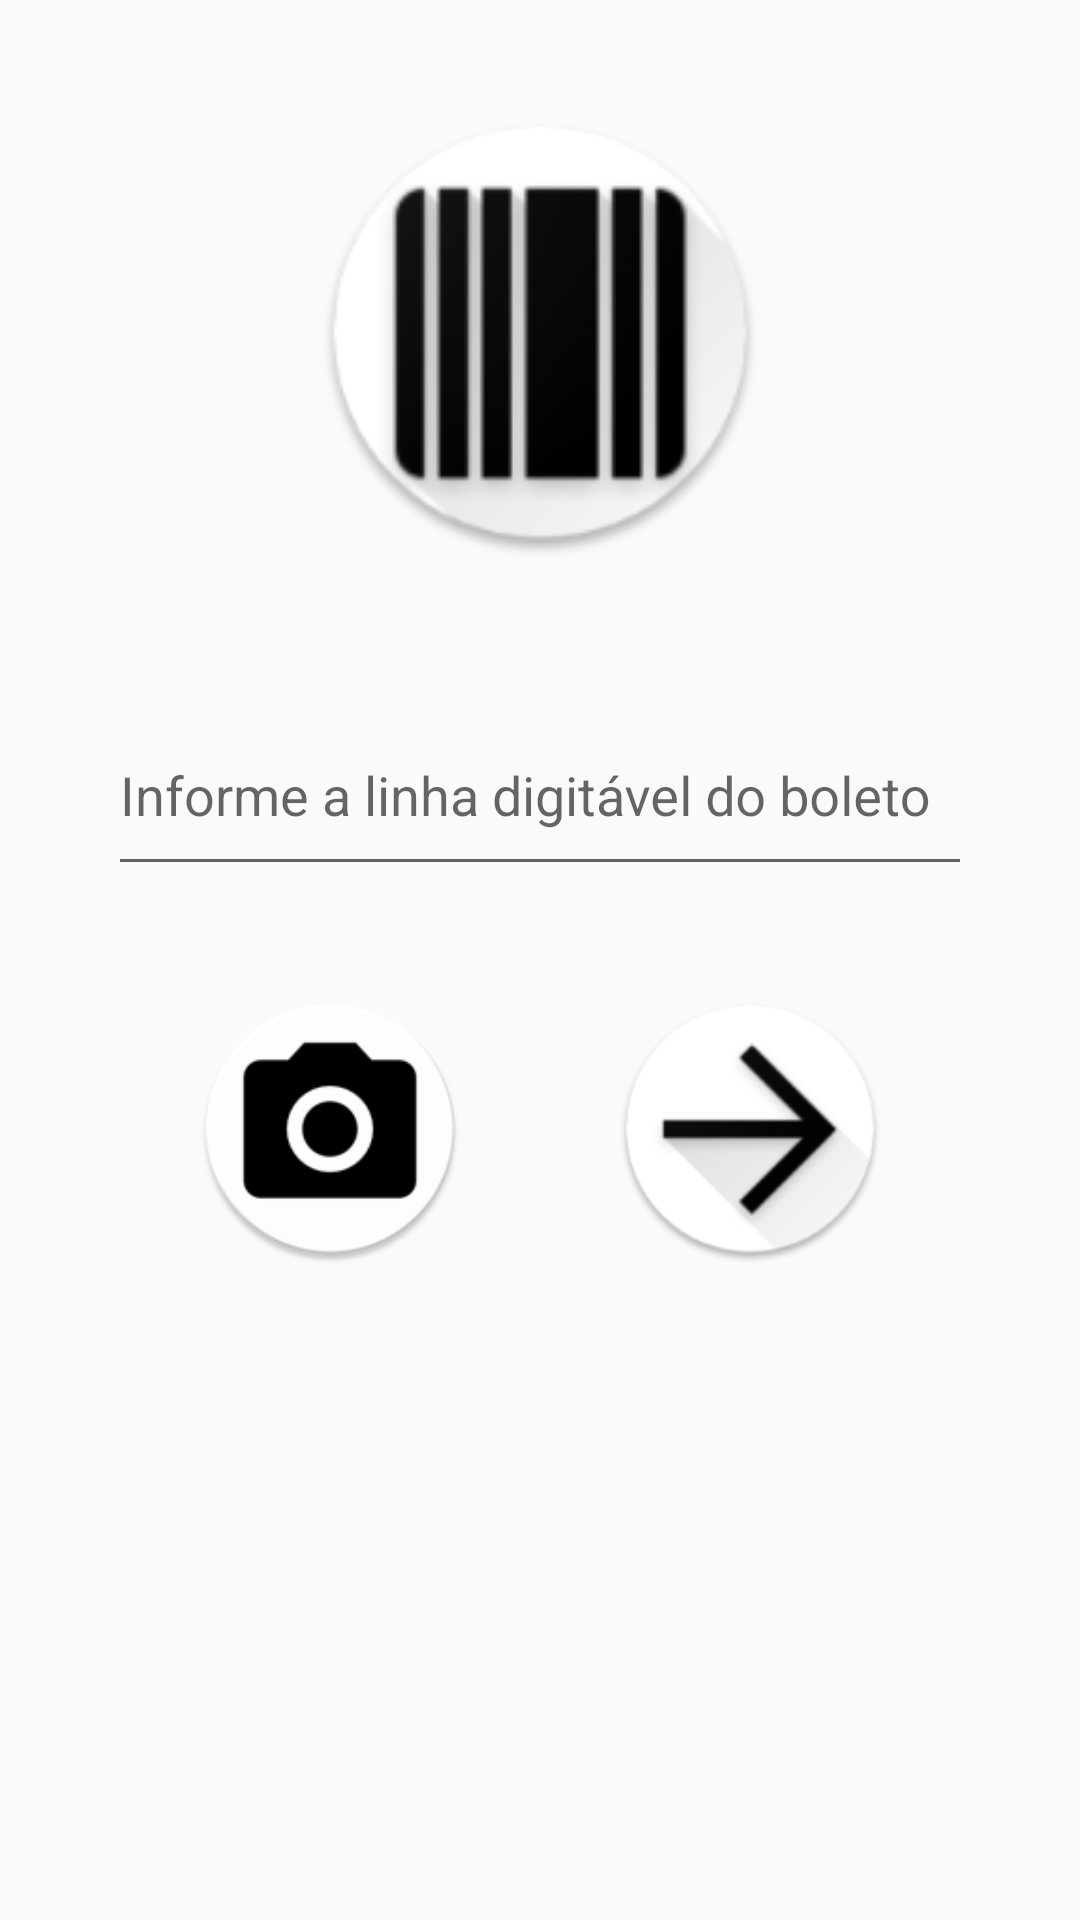

Screen size 1080 x 1920. Icon name, then its box in pixels as (x1, y1, x2, y2):
camera: (210, 1042, 455, 1259)
right: (625, 1044, 875, 1258)
